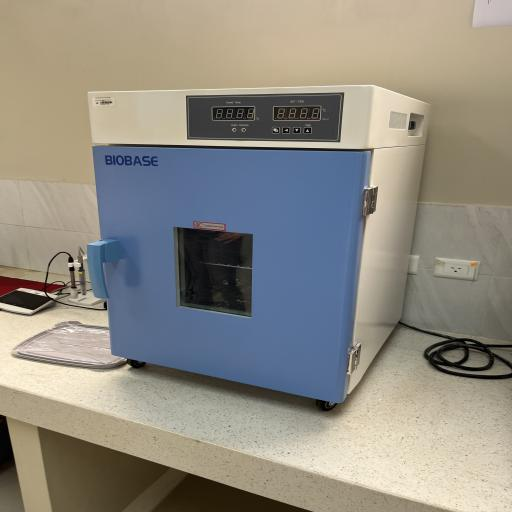Horno_Secado_Biobase: (77, 77, 434, 417)
